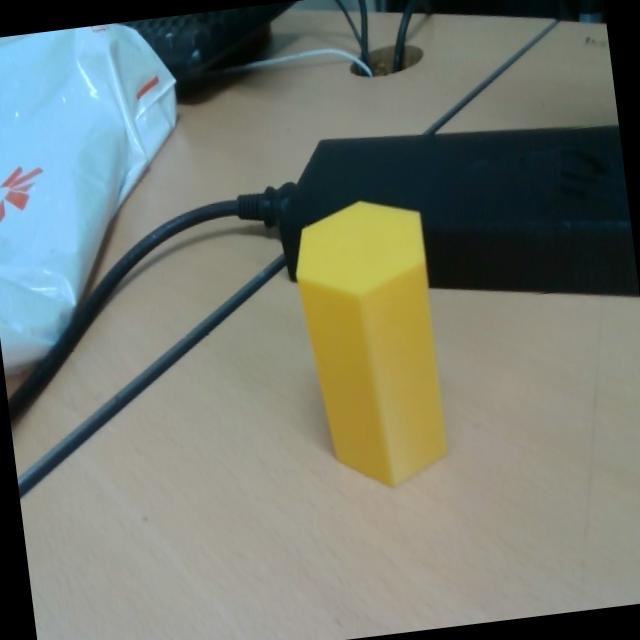hexagon: (297, 201, 446, 485)
